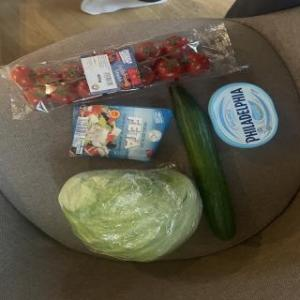cabbage: (59, 168, 205, 266)
cucumber: (162, 80, 240, 250)
tomato: (178, 50, 212, 78), (162, 32, 192, 54), (157, 56, 182, 80)
